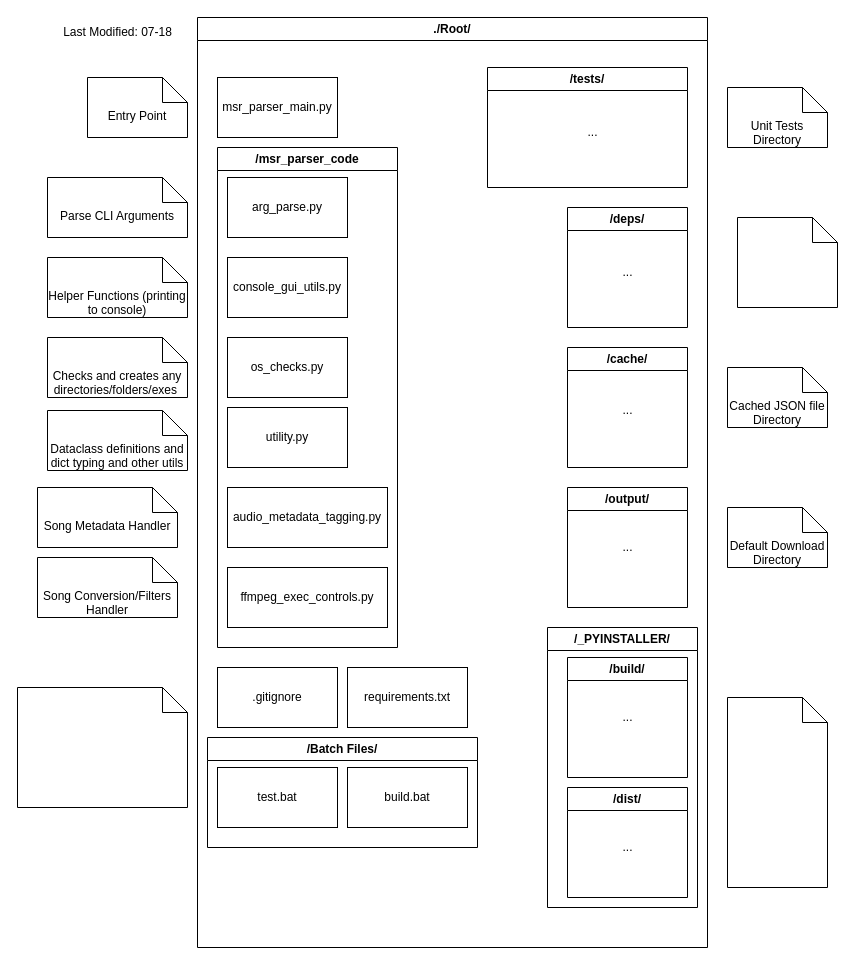
Some shapes in this 855 by 965 pixel diagram are drawn without their labels. Each missing label, with the centre of its shape:
"FFmpeg exe and other extern .exe should be here" goes at point (787, 262).
"Misc Files build.bat: build using pyinstaller test.bat run all unit tests" goes at point (102, 747).
"Pyinstaller DIrectories" goes at point (777, 792).
